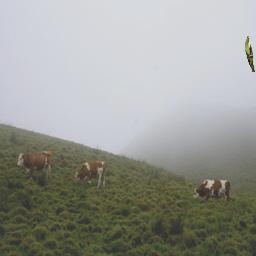Cuckoo: (245, 36, 255, 72)
